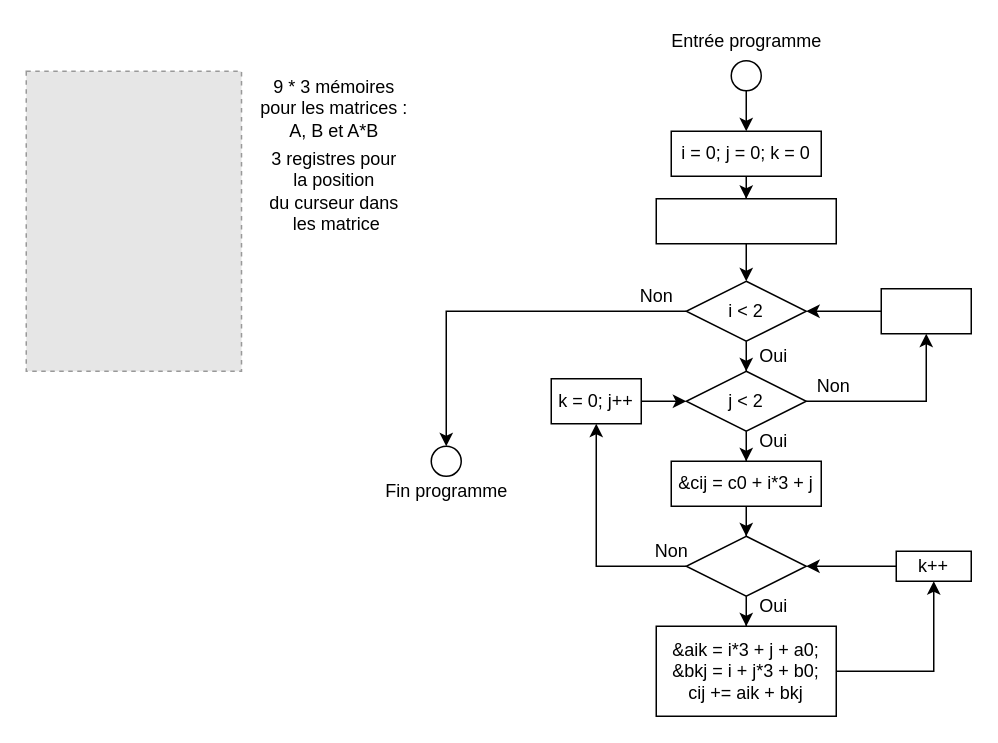
Image size: 998x743. Some labels were removed from this diagram. Grey dashed boxes stand in for pictures. Here are the shapes that lost their labels. From the top down, the centre of each, then its label:
point (745, 220): a0 = x; b0 = y; c0 = z
point (925, 310): j = 0; i++
point (745, 565): k < 2
